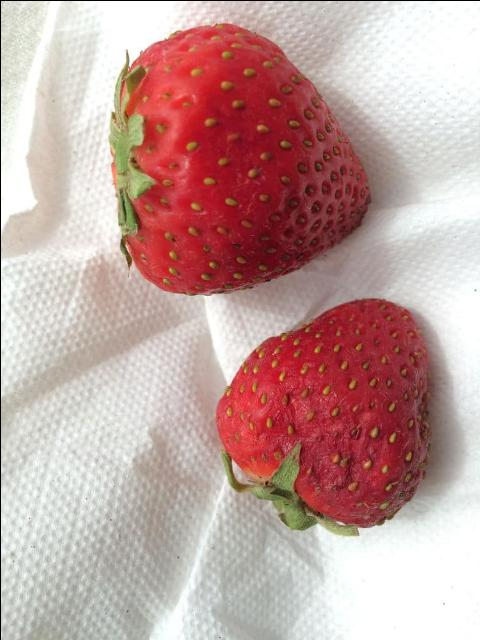Strawberries: (110, 24, 370, 292), (217, 298, 430, 532)
